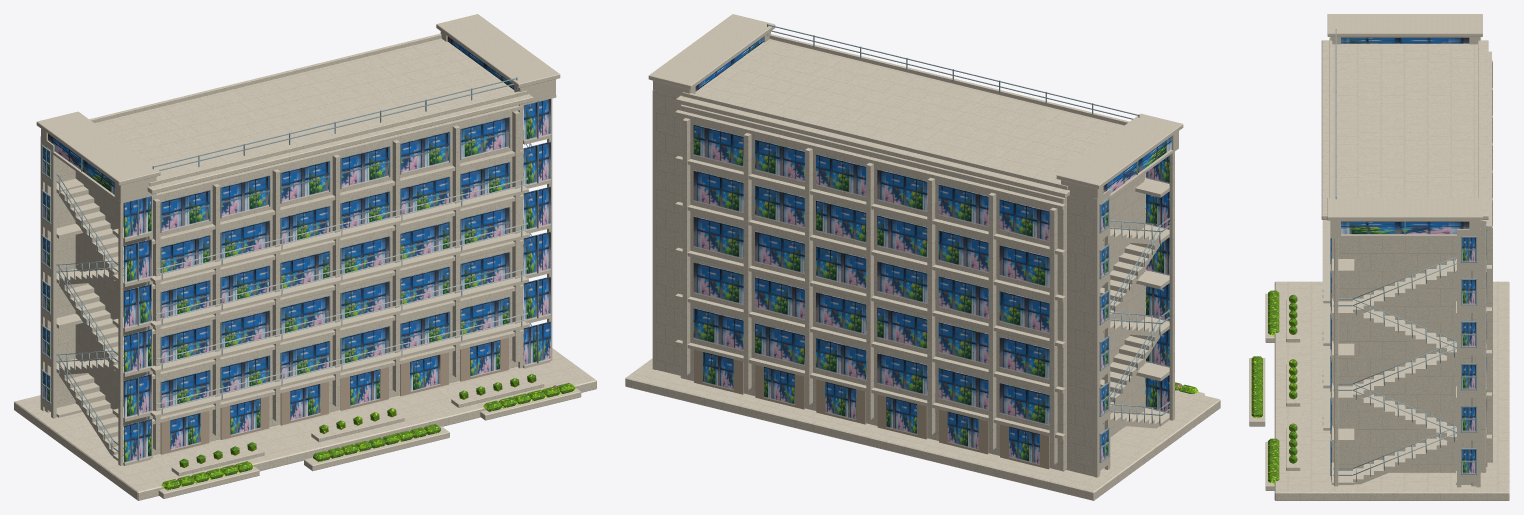
Rendered from B11_teaching_middle_v2.glb.
3 renders of one model, left to right at view 1: azimuth 30°, elevation 25°; view 2: azimuth 150°, elevation 25°; view 3: azimuth 270°, elevation 25°, orthographic. The views are drawn at different scales.
Visible parts, largest first — view 1: GAME_V2_Pixel_limestone, GAME_V2_Glass_reflection, GAME_V2_Planter_stone, GAME_Window frames, GAME_V2_Silver_rail, GAME_V2_Tower_frame, GAME_Entry cladding, GAME_V2_Dense_hedge; view 2: GAME_V2_Pixel_limestone, GAME_V2_Glass_reflection, GAME_V2_Tower_frame, GAME_Entry cladding; view 3: GAME_V2_Pixel_limestone, GAME_V2_Glass_reflection, GAME_V2_Tower_frame, GAME_V2_Dense_hedge, GAME_V2_Planter_stone, GAME_Window frames, GAME_V2_Silver_rail.
Part boxes in pixels (bbox=[...]): GAME_V2_Pixel_limestone: bbox=[14, 14, 596, 500]; GAME_V2_Glass_reflection: bbox=[42, 36, 550, 463]; GAME_V2_Planter_stone: bbox=[150, 186, 581, 498]; GAME_Window frames: bbox=[137, 100, 538, 460]; GAME_V2_Silver_rail: bbox=[156, 178, 528, 414]; GAME_V2_Tower_frame: bbox=[41, 77, 531, 455]; GAME_Entry cladding: bbox=[160, 338, 508, 454]; GAME_V2_Dense_hedge: bbox=[162, 374, 574, 490]; GAME_V2_Pixel_limestone: bbox=[625, 14, 1220, 500]; GAME_V2_Glass_reflection: bbox=[693, 37, 1171, 464]; GAME_V2_Tower_frame: bbox=[767, 23, 1169, 462]; GAME_Entry cladding: bbox=[694, 350, 1049, 469]; GAME_V2_Pixel_limestone: bbox=[1274, 14, 1509, 500]; GAME_V2_Glass_reflection: bbox=[1331, 37, 1486, 482]; GAME_V2_Tower_frame: bbox=[1333, 29, 1477, 481]; GAME_V2_Dense_hedge: bbox=[1251, 290, 1297, 482]; GAME_V2_Planter_stone: bbox=[1249, 220, 1333, 490]; GAME_Window frames: bbox=[1330, 238, 1331, 476]; GAME_V2_Silver_rail: bbox=[1322, 220, 1323, 424].
Size of the model in its own units: 23 by 14.34 by 11.97.
10 materials, 6 textured.
